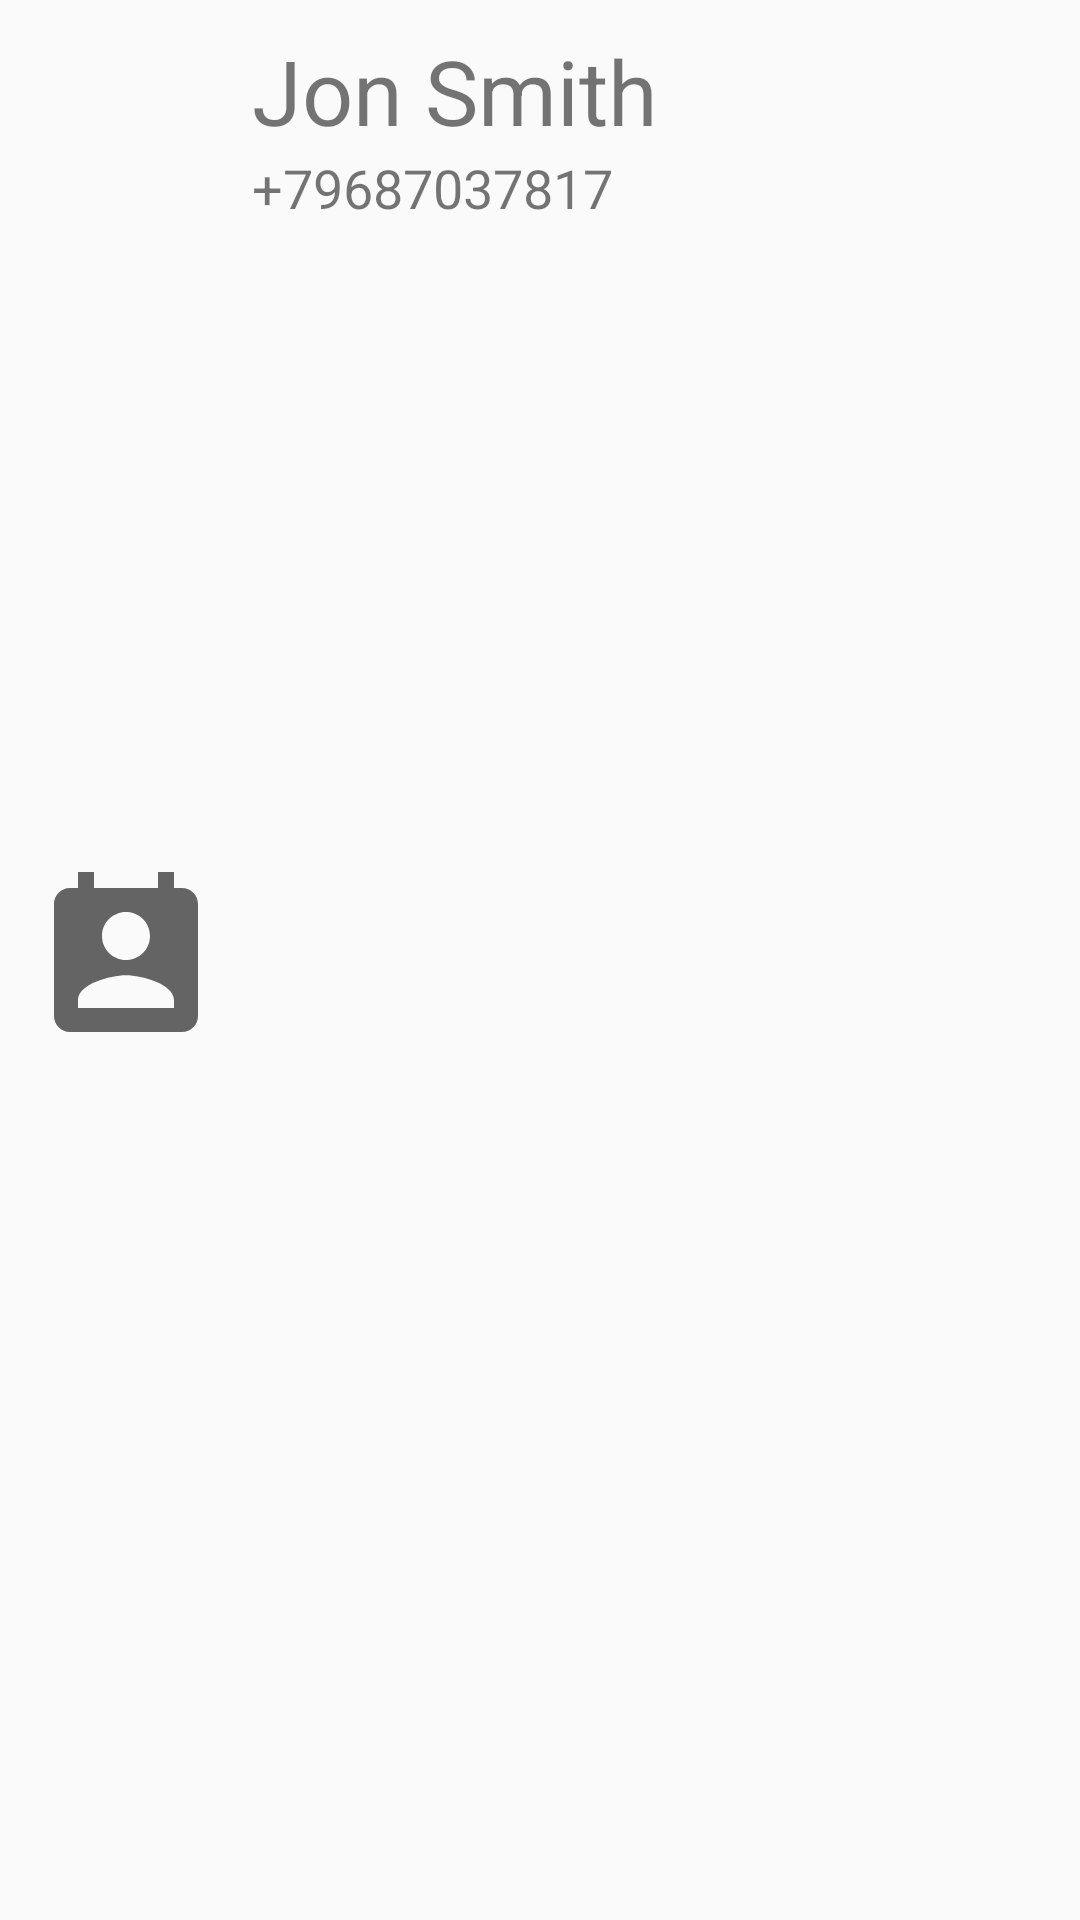

Screen size 1080px×1920px. Icon name, then its center in pixels as (x,y):
contact: (126,952)
